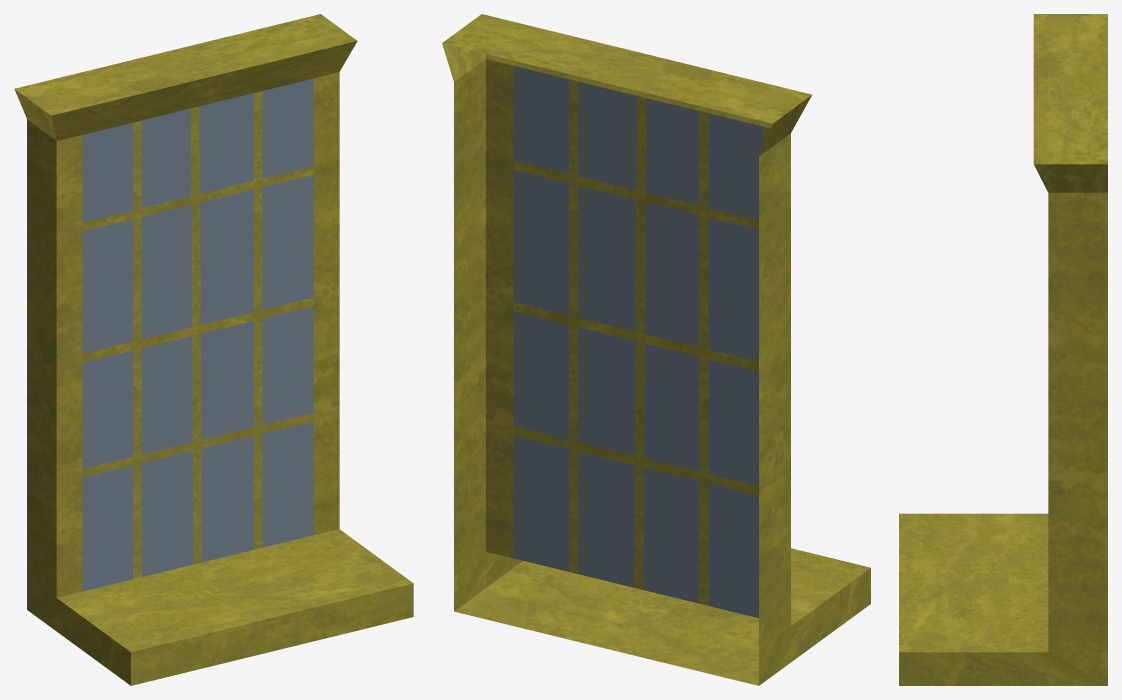
The model's file is Window2LOD.fbx.
3 renders of one model, left to right at view 1: azimuth 30°, elevation 25°; view 2: azimuth 150°, elevation 25°; view 3: azimuth 270°, elevation 25°, orthographic. The views are drawn at different scales.
Visible parts, largest first — view 1: Window2_LOD1; view 2: Window2_LOD1; view 3: Window2_LOD1.
Part boxes in pixels (x1,y1,x2,y2): Window2_LOD1: (14,14,413,685); Window2_LOD1: (442,14,870,685); Window2_LOD1: (899,14,1107,685).
Bounding box in the file's own units: 119 × 195 × 70.04.
